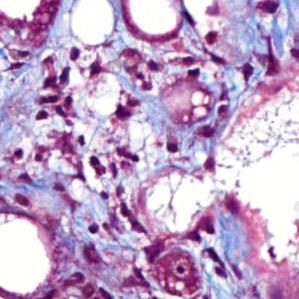steatosis: (67, 0, 118, 46)
